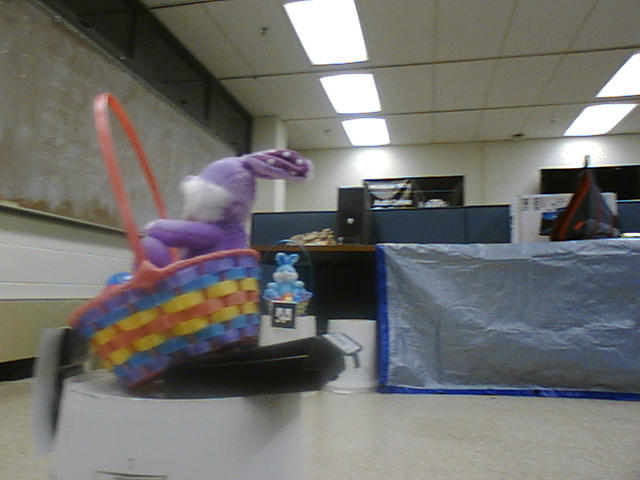bunny: (57, 92, 303, 371), (265, 232, 316, 320)
